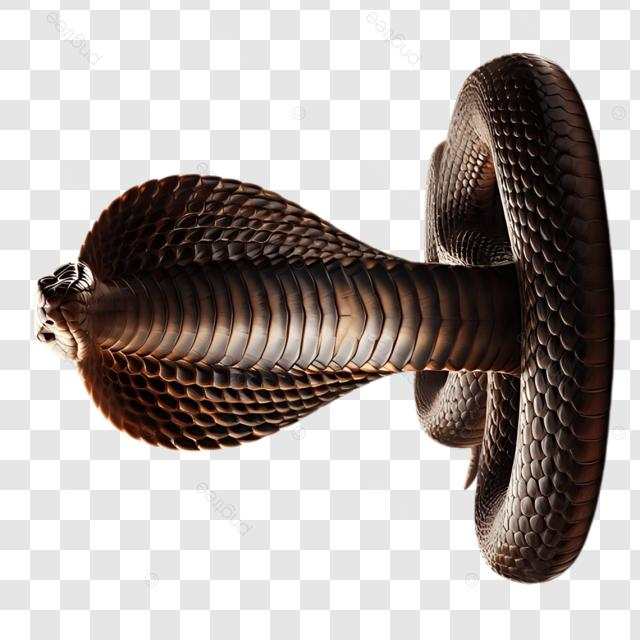Venomous: (12, 178, 421, 470)
